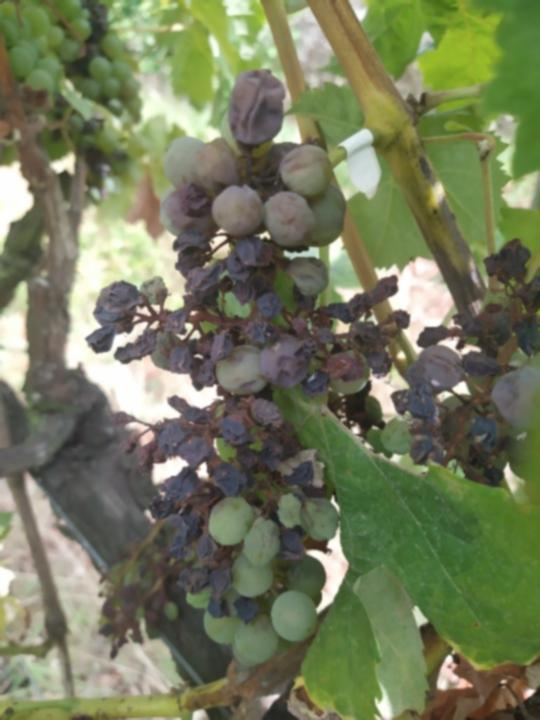grape: (81, 66, 413, 669)
